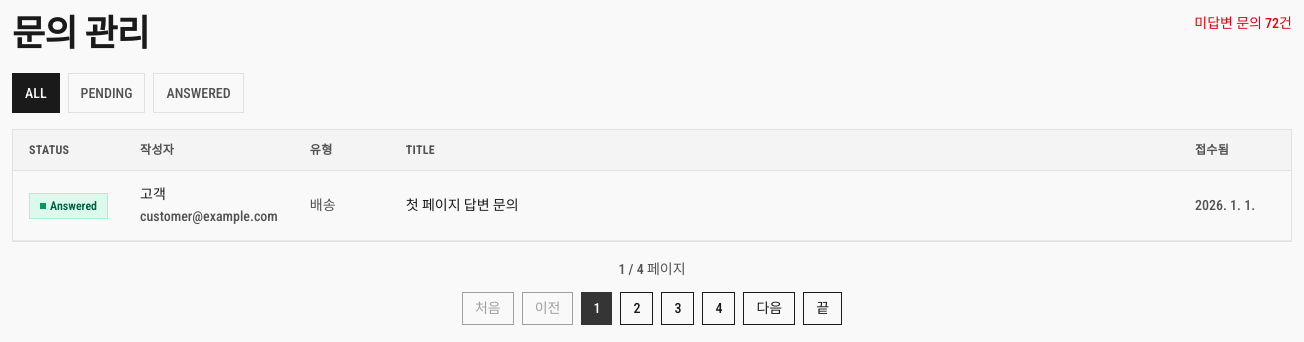
Scenario: AdminInquiriesPage › requests server-side status-filtered pages instead of filtering the first page locally
expect the text "첫 페이지 답변 문의" is shown: met, box 390,170 -> 1179,240
What coordinates should you click on to do the following:
click the button "Pending"
I would click on:
 (107, 93)
Its box is 68,73 -> 146,113.
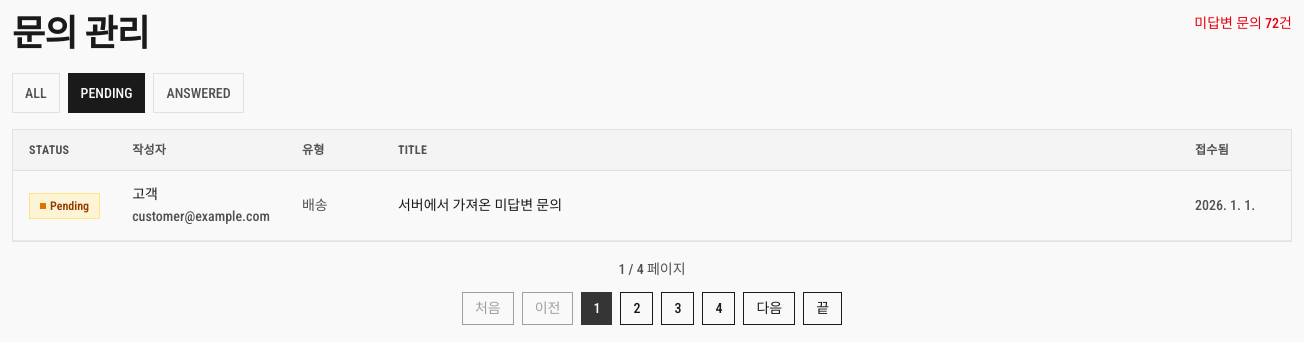
expect the text "서버에서 가져온 미답변 문의" is shown: met, box 382,170 -> 1179,240
expect the text "첫 페이지 답변 문의" is gone: met
